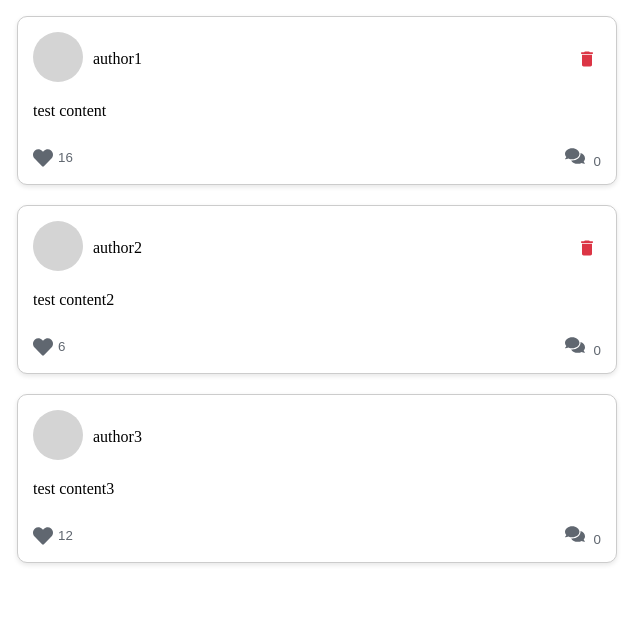
Scenario: Post list › Should not remove the post if the delete operation fails
Click the button named "delete post" in the row of "author1" at (587, 59), box 573,45 -> 601,73
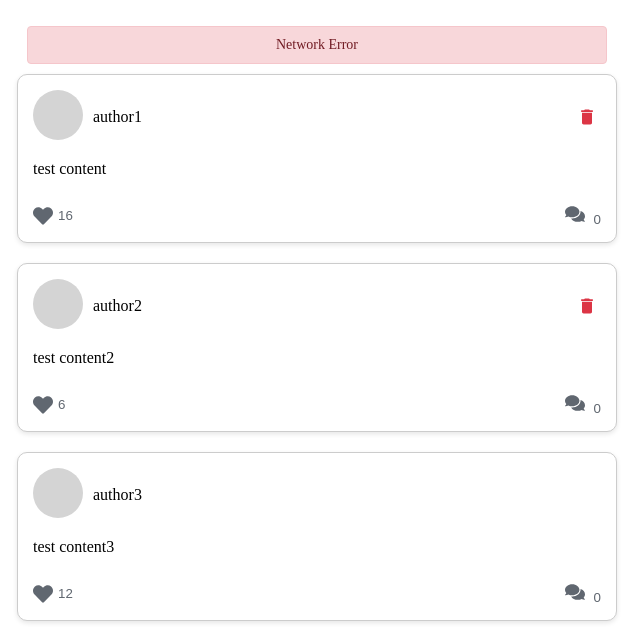
Now the text "Network Error" is shown, box 27,26 -> 607,64
